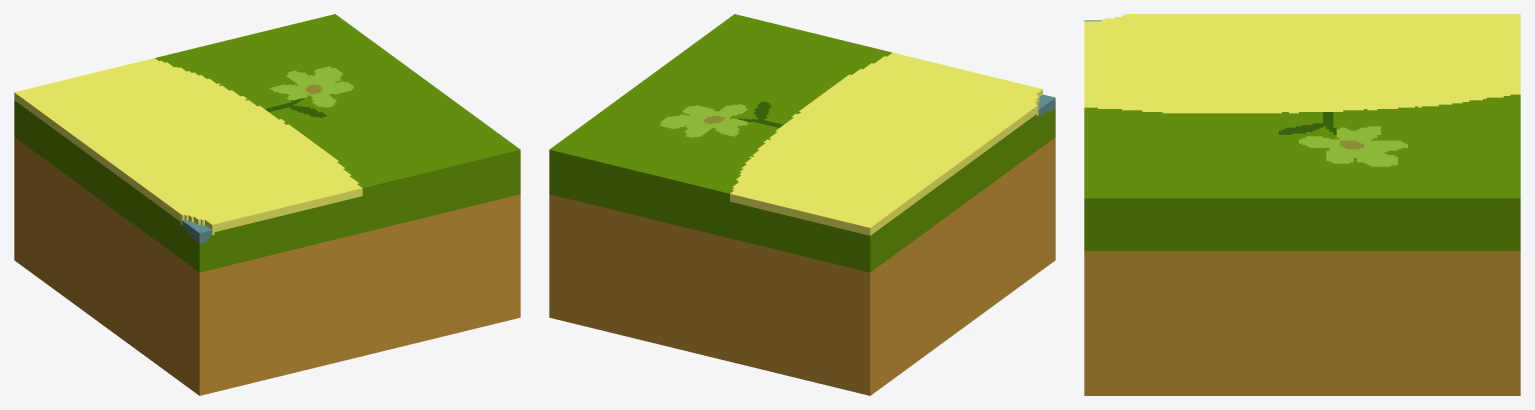
The picture shows the model from 3 angles, left to right: view 1: azimuth 30°, elevation 25°; view 2: azimuth 150°, elevation 25°; view 3: azimuth 270°, elevation 25°; orthographic projection. The views are drawn at different scales.
Parts seen in each view (by area): view 1: 14L; view 2: 14L; view 3: 14L.
Boxes of the visible parts, x1,y1,x2,y2 form: 14L: [14, 14, 520, 395]; 14L: [549, 14, 1055, 395]; 14L: [1084, 14, 1520, 395].
Size of the model in its own units: 12.8 by 6.4 by 12.8.
1 material, 1 textured.
